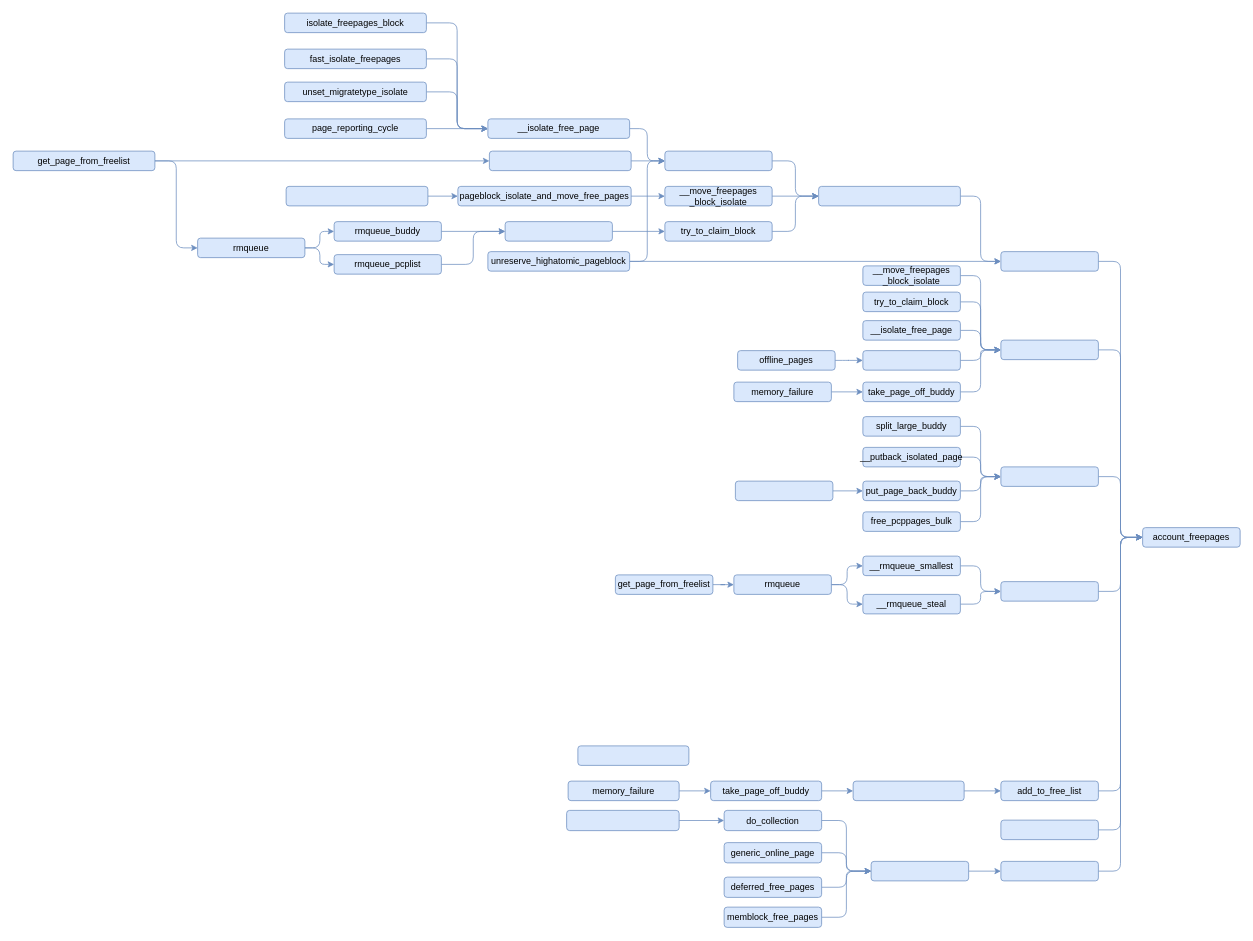
Image size: 1253x941. Some labels were removed from this diagram. The shapes that lost their labels are listed below. From the top down, each one's centre as x and y in pixels, then its label:
At [560,160]: "reserve_highatomic_pageblock".
At [718,160]: "move_freepages_block".
At [356,196]: "set_migratetype_isolate".
At [889,196]: "__move_freepages_block".
At [558,231]: "__rmqueue_claim".
At [1049,261]: "move_to_free_list".
At [911,360]: "__offline_isolated_pages".
At [1049,349]: "del_page_from_free_list".
At [784,490]: "unpoison_memory".
At [1049,476]: "__free_one_page".
At [1049,591]: "page_del_and_expand".
At [633,755]: "__page_handle_poison".
At [908,790]: "break_down_buddy_pages".
At [622,820]: "kmsan_memblock_discard".
At [1049,829]: "__accept_page".
At [919,871]: "__free_pages_core".
At [1049,871]: "__free_unaccepted".
